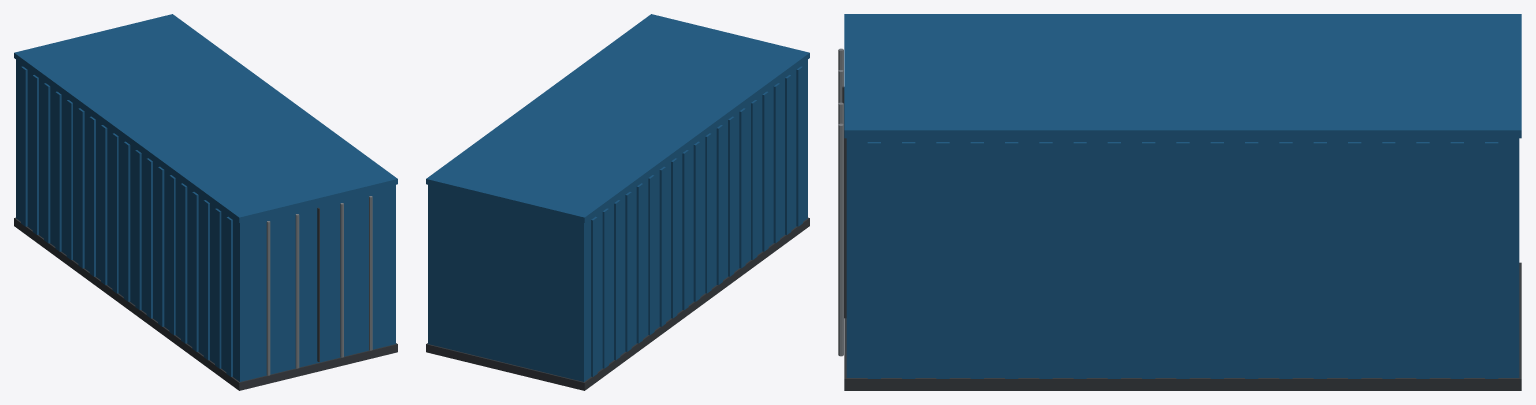
The model's file is conteiner.glb.
The picture shows the model from 3 angles, left to right: view 1: azimuth 30°, elevation 25°; view 2: azimuth 150°, elevation 25°; view 3: azimuth 270°, elevation 25°; orthographic projection. The views are drawn at different scales.
Visible parts, largest first — view 1: conteiner_corpo; view 2: conteiner_corpo; view 3: conteiner_corpo.
Boxes of the visible parts, box(x1,y1,x2,y2) form: conteiner_corpo: box(14, 14, 397, 390); conteiner_corpo: box(426, 14, 809, 390); conteiner_corpo: box(838, 14, 1521, 390).
Size of the model in its own units: 2.5 by 2.59 by 6.15.
